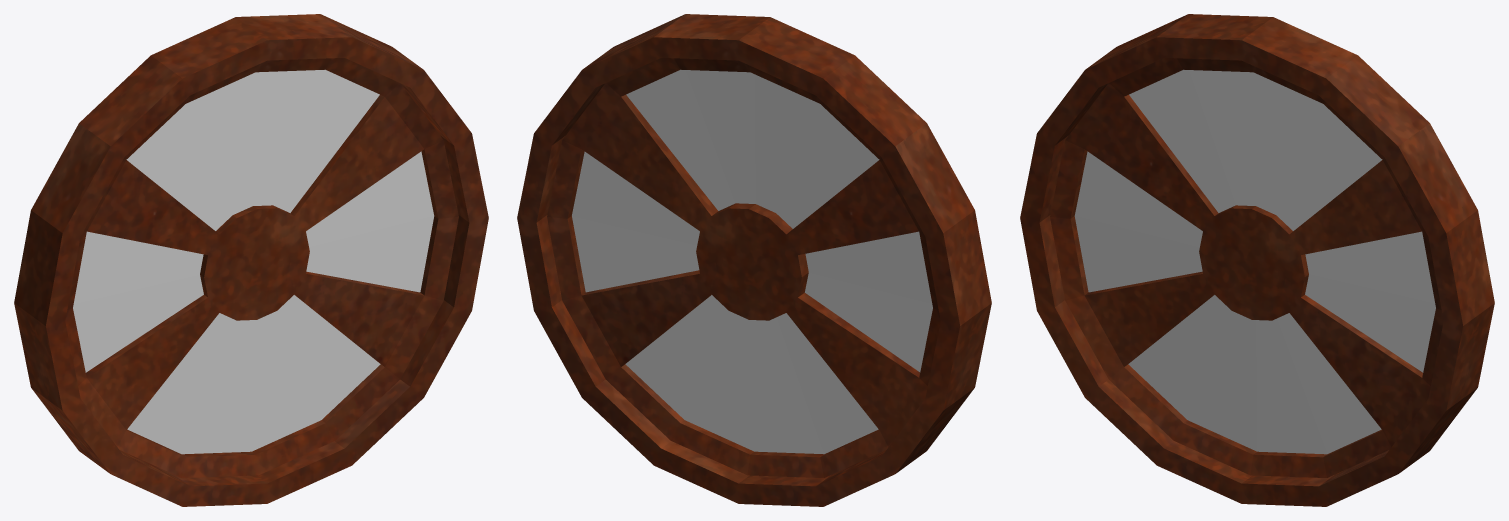
Rendered from Bathroom_Window_02.fbx.
3 renders of one model, left to right at view 1: azimuth 30°, elevation 25°; view 2: azimuth 150°, elevation 25°; view 3: azimuth 330°, elevation 25°, orthographic.
Visible parts, largest first — view 1: Bathroom_Window_Glass_02, Glass_body, Bathroom_Window_02; view 2: Bathroom_Window_Glass_02, Glass_body, Bathroom_Window_02; view 3: Bathroom_Window_Glass_02, Glass_body, Bathroom_Window_02.
Boxes of the visible parts, x1,y1,x2,y2 form: Bathroom_Window_Glass_02: (73, 69, 434, 454); Glass_body: (65, 58, 458, 477); Bathroom_Window_02: (14, 14, 488, 506); Bathroom_Window_Glass_02: (572, 69, 932, 454); Glass_body: (547, 58, 940, 477); Bathroom_Window_02: (517, 14, 991, 506); Bathroom_Window_Glass_02: (1074, 69, 1435, 454); Glass_body: (1050, 58, 1443, 477); Bathroom_Window_02: (1020, 14, 1494, 506).
Bounding box in the file's own units: 66.26 × 66.26 × 8.21.
